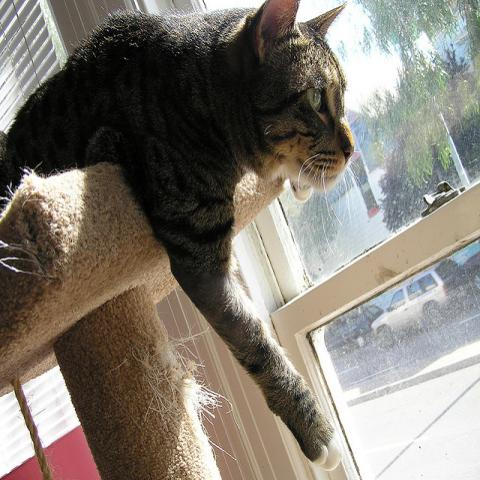car: (371, 257, 477, 350), (323, 303, 386, 357)
